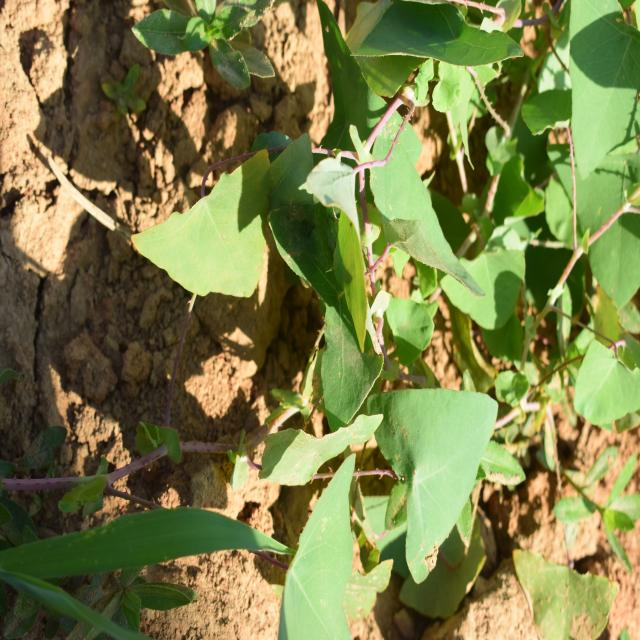Asiatic_Smartweed: (150, 115, 494, 362), (368, 360, 500, 581), (274, 458, 368, 636)
